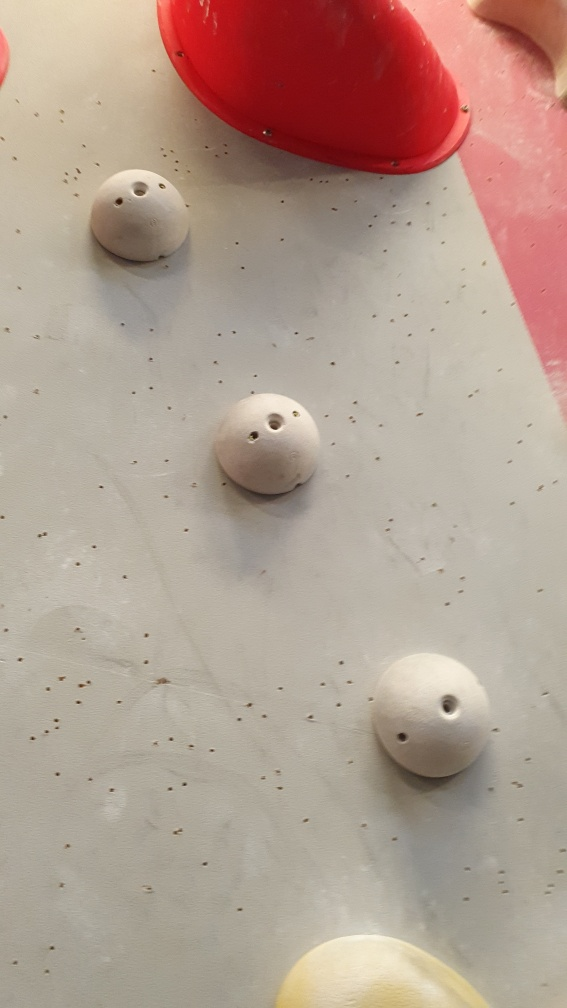Sloper: (372, 649, 494, 783), (210, 387, 325, 507), (88, 167, 196, 265)
